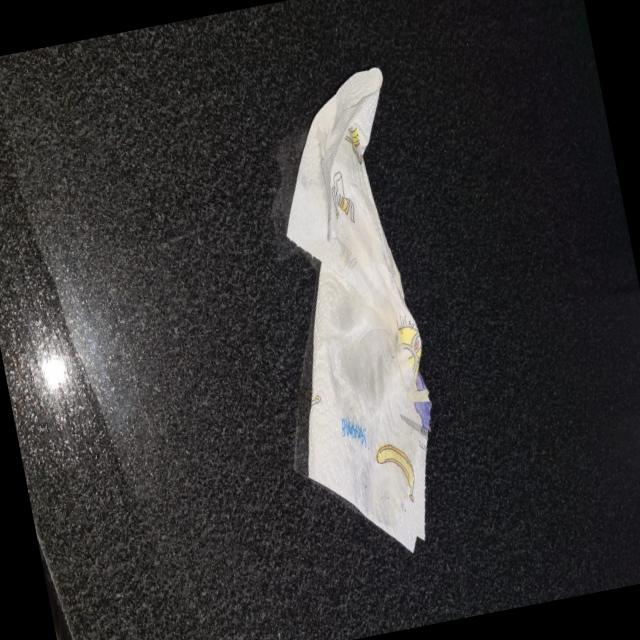organic waste: (231, 59, 479, 574)
